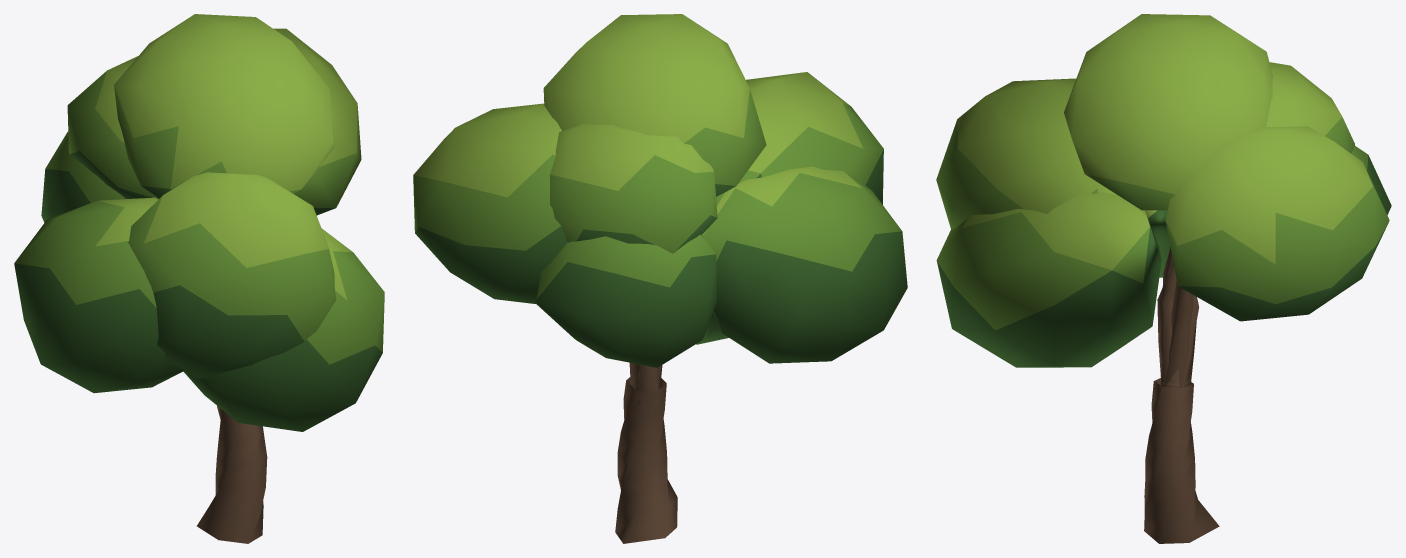
The model's file is BeechA_LOD.glb.
3 renders of one model, left to right at view 1: azimuth 30°, elevation 25°; view 2: azimuth 150°, elevation 25°; view 3: azimuth 270°, elevation 25°, orthographic.
Visible parts, largest first — view 1: BeechA_LOD.leafLight, BeechA_LOD.leafMid, BeechA_LOD.leafDark, BeechA_LOD.bark; view 2: BeechA_LOD.leafLight, BeechA_LOD.leafMid, BeechA_LOD.leafDark, BeechA_LOD.bark; view 3: BeechA_LOD.leafLight, BeechA_LOD.leafMid, BeechA_LOD.leafDark, BeechA_LOD.bark.
Boxes of the visible parts, x1=… form: BeechA_LOD.leafLight: x1=95, y1=14, x2=357, y2=299; BeechA_LOD.leafMid: x1=14, y1=71, x2=384, y2=364; BeechA_LOD.leafDark: x1=14, y1=151, x2=382, y2=431; BeechA_LOD.bark: x1=197, y1=406, x2=267, y2=543; BeechA_LOD.leafLight: x1=413, y1=14, x2=863, y2=235; BeechA_LOD.leafMid: x1=413, y1=89, x2=901, y2=299; BeechA_LOD.leafDark: x1=415, y1=149, x2=907, y2=367; BeechA_LOD.bark: x1=615, y1=362, x2=677, y2=543; BeechA_LOD.leafLight: x1=957, y1=14, x2=1372, y2=270; BeechA_LOD.leafMid: x1=936, y1=117, x2=1389, y2=330; BeechA_LOD.leafDark: x1=937, y1=155, x2=1391, y2=367; BeechA_LOD.bark: x1=1144, y1=248, x2=1219, y2=543.
Bounding box in the file's own units: 16.19 × 20.68 × 16.86.
